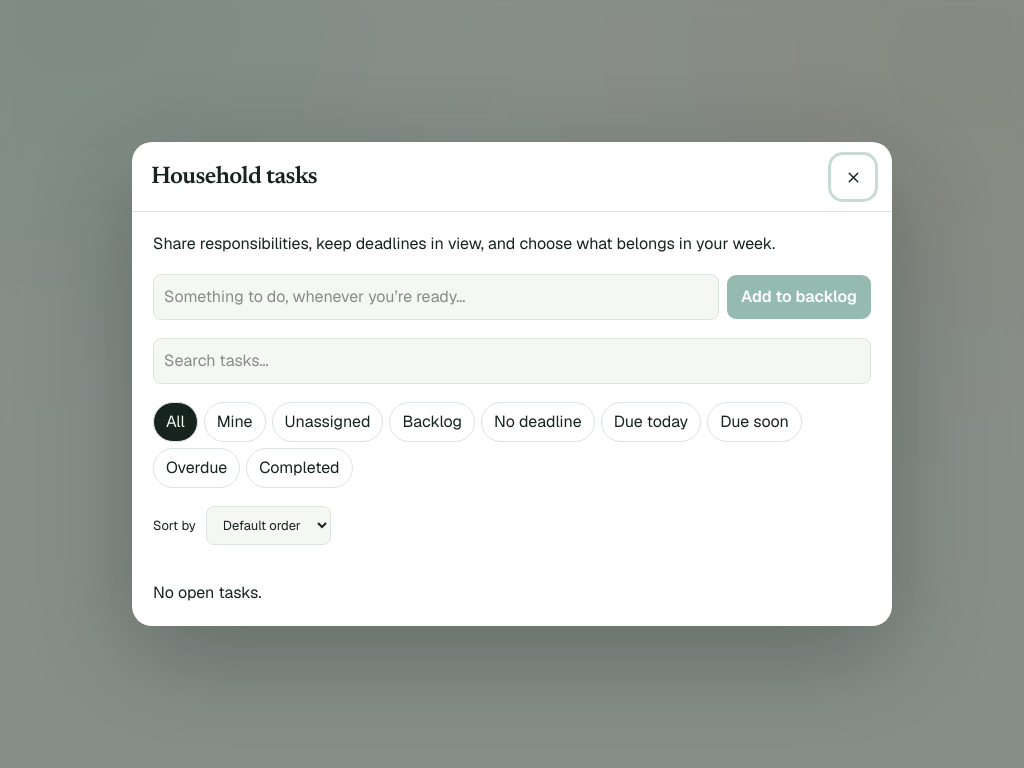
Test: task workspace search › explains an empty No deadline view
What coordinates should you click on to do the following:
click the button "No deadline"
I would click on:
 (538, 422)
Its box is [481,402,595,442].
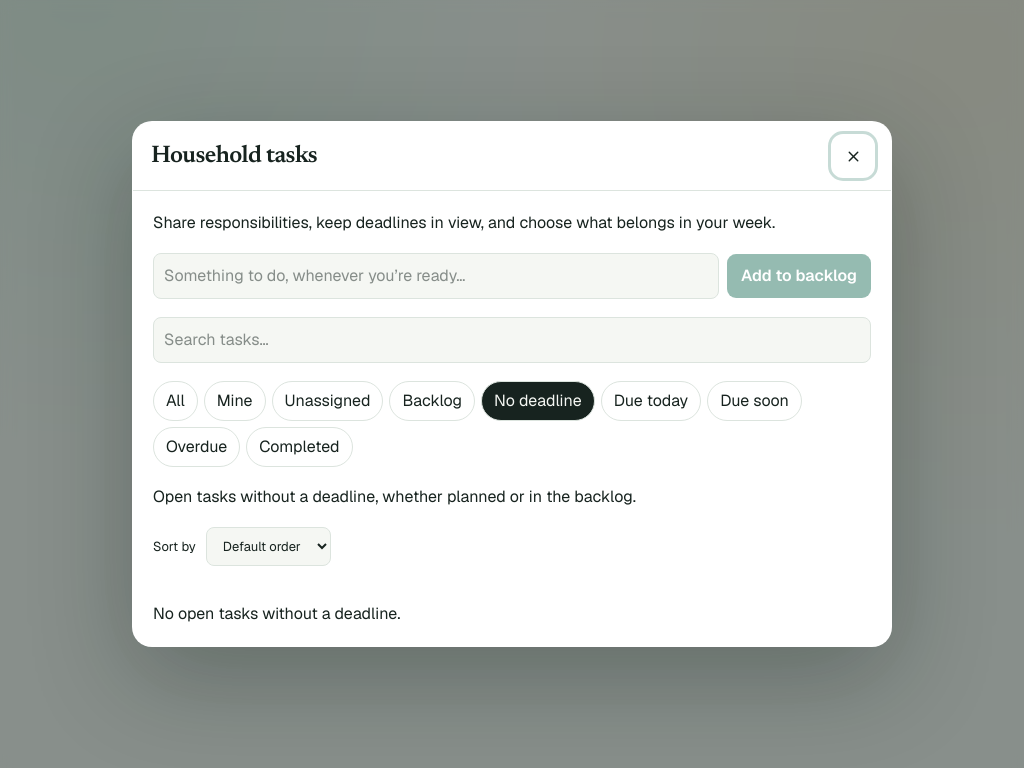
Expected: the message reads "No open tasks without a deadline.", [153,603,400,624]
